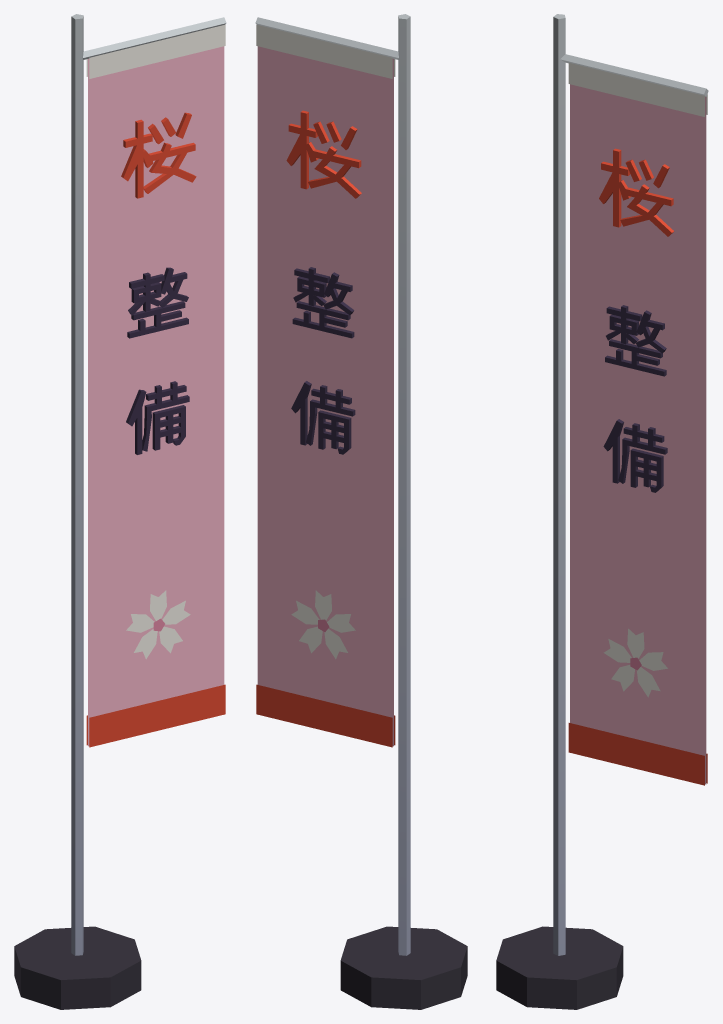
File: garage_nobori.glb
The picture shows the model from 3 angles, left to right: view 1: azimuth 30°, elevation 25°; view 2: azimuth 150°, elevation 25°; view 3: azimuth 330°, elevation 25°; orthographic projection.
Parts seen in each view (by area): view 1: garage_nobori; view 2: garage_nobori; view 3: garage_nobori.
Boxes of the visible parts, x1=… form: garage_nobori: x1=14, y1=14, x2=226, y2=1009; garage_nobori: x1=255, y1=14, x2=467, y2=1009; garage_nobori: x1=496, y1=14, x2=708, y2=1009.
Bounding box in the file's own units: 1 × 4.54 × 0.56.
